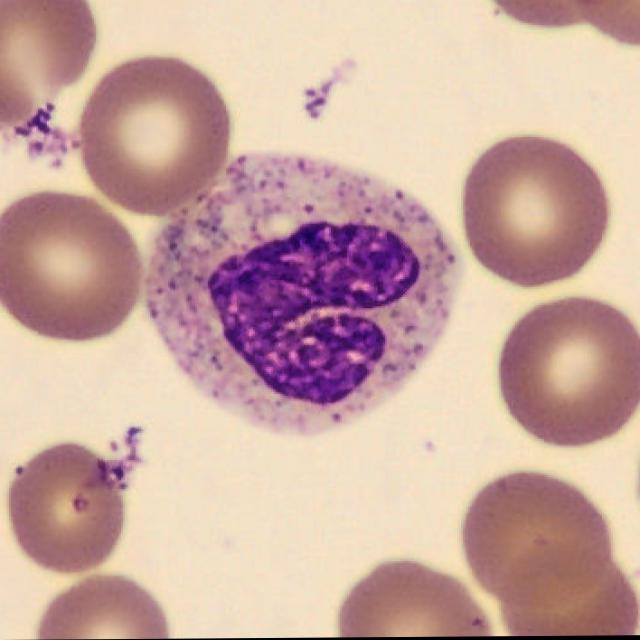Neutrofilo segmentado: (143, 150, 459, 438)
